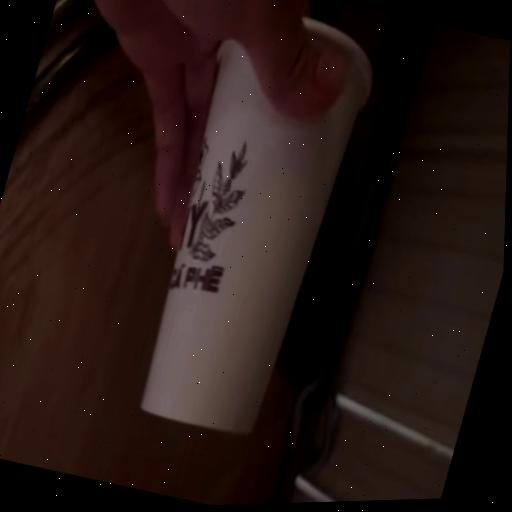ly_giay: (141, 18, 371, 433)
